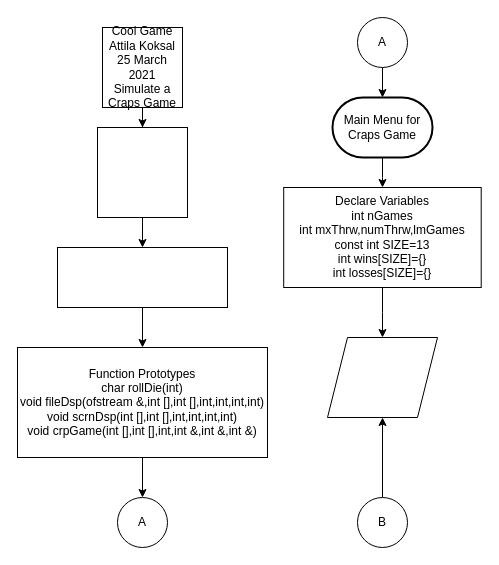
This 499x565 diagram has some shape labels left out. The shapes that lost their labels are listed below. From the top down, each one's box as (x1, y1, x2, y2) in pixels, then its label:
(96, 126, 188, 218): Libraries I/O Stream and other Libraries for each aspect of the project
(56, 246, 228, 308): Global Constant float PERCENT=100.0f
(326, 336, 438, 418): Output a file Input a file
